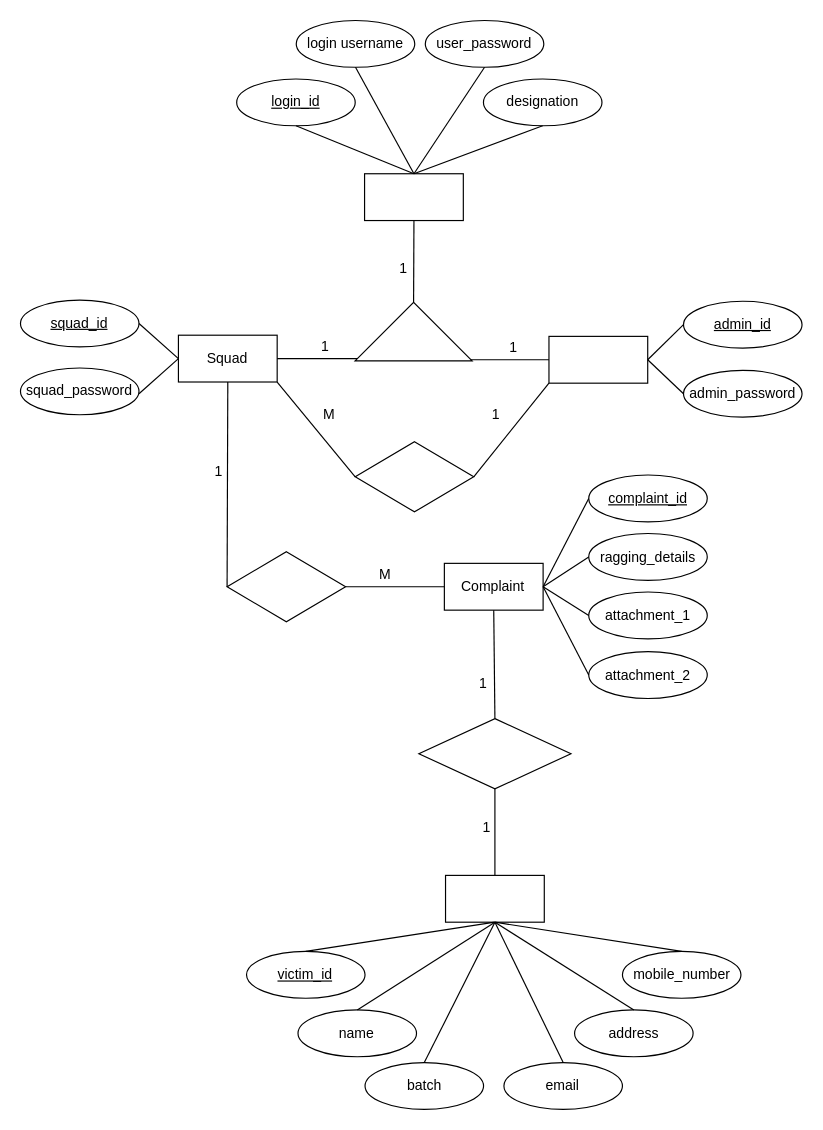
Some shapes in this 823 by 1130 pixel diagram are drawn without their labels. The centre of each missing label's shape, as x and y in pixels:
Admin: pixel 598 359
IS A: pixel 413 331
Login: pixel 413 197
Manages: pixel 414 476
Register / View: pixel 494 753
Update Response: pixel 286 586
Victim: pixel 494 898
